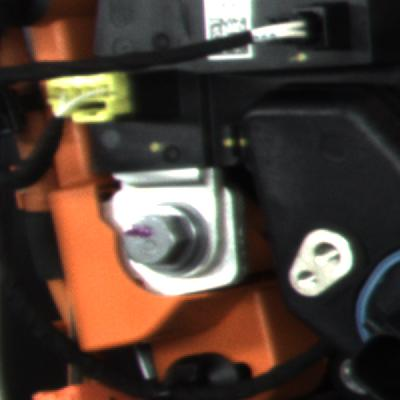nut_b: (124, 194, 226, 285)
